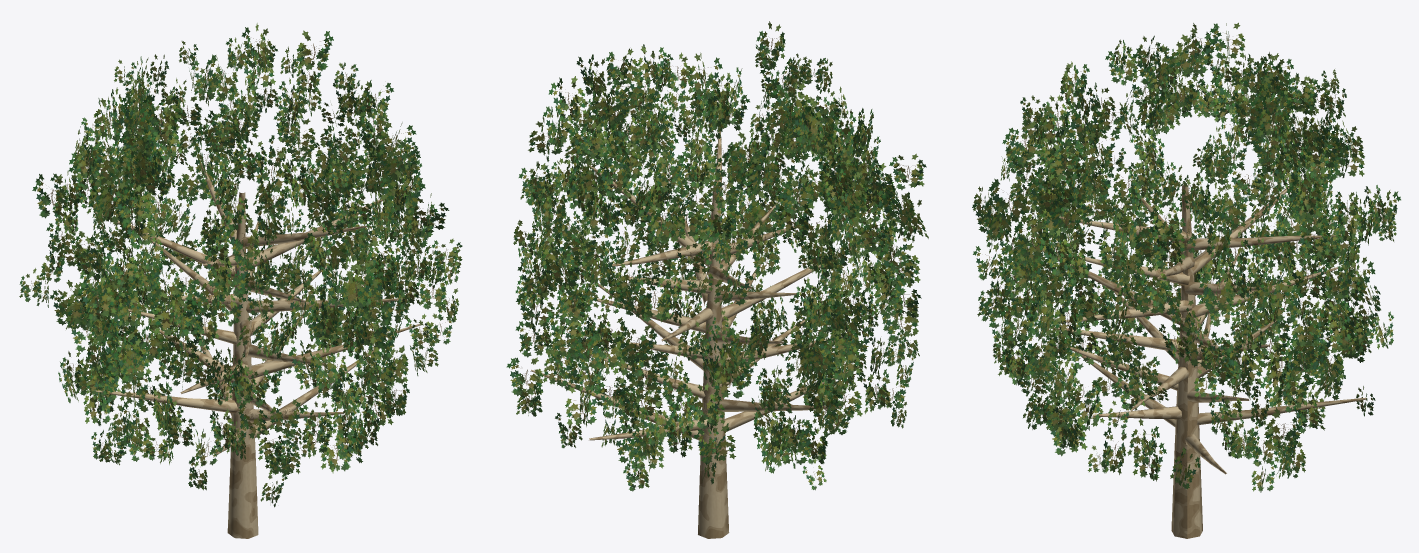
File: plane_far.glb
3 views of the same model, side by side, from view 1: azimuth 30°, elevation 25°; view 2: azimuth 150°, elevation 25°; view 3: azimuth 270°, elevation 25° (orthographic).
Parts seen in each view (by area): view 1: VIS_Plane_LeafCards, VIS_Plane_Bark; view 2: VIS_Plane_LeafCards, VIS_Plane_Bark; view 3: VIS_Plane_LeafCards, VIS_Plane_Bark.
Part boxes in pixels (box(x1,y1,x2,y2)): VIS_Plane_LeafCards: box(19, 23, 462, 507); VIS_Plane_Bark: box(94, 163, 420, 538); VIS_Plane_LeafCards: box(506, 21, 928, 491); VIS_Plane_Bark: box(531, 131, 861, 538); VIS_Plane_LeafCards: box(972, 22, 1400, 492); VIS_Plane_Bark: box(1042, 184, 1366, 538).
Bounding box in the file's own units: 14.9 × 17.49 × 14.85.
2 materials, 2 textured.
